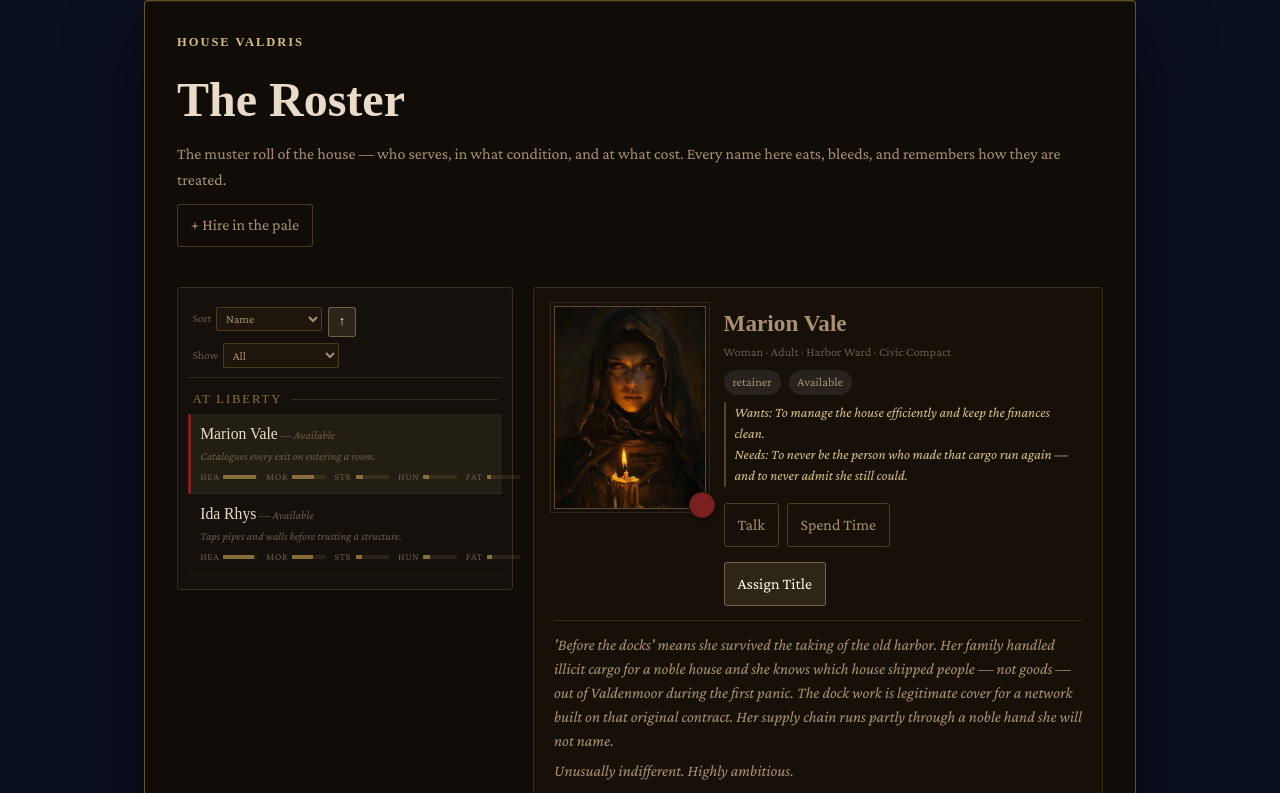
Scenario: RosterScreen › renders seeded roster entries and updates the selected detail panel
Expected: the heading "The Roster" is shown, [177,73,405,126]
Expected: the button "Marion Vale" is shown, [188,414,502,494]
Step 1. Click the button "Ida Rhys" → (345, 535), box [188,494,502,575]
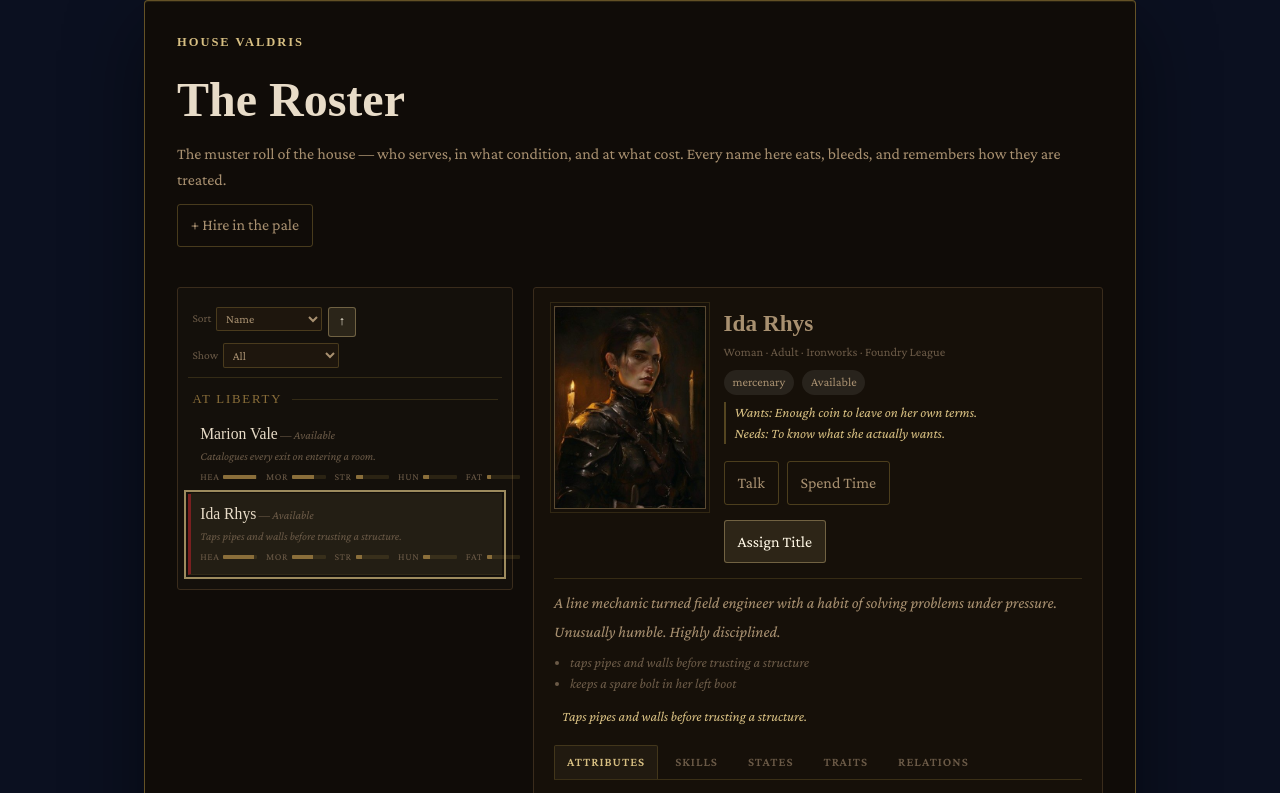
Now the text "A line mechanic turned field engineer" is shown, box [554,594,1057,611]
